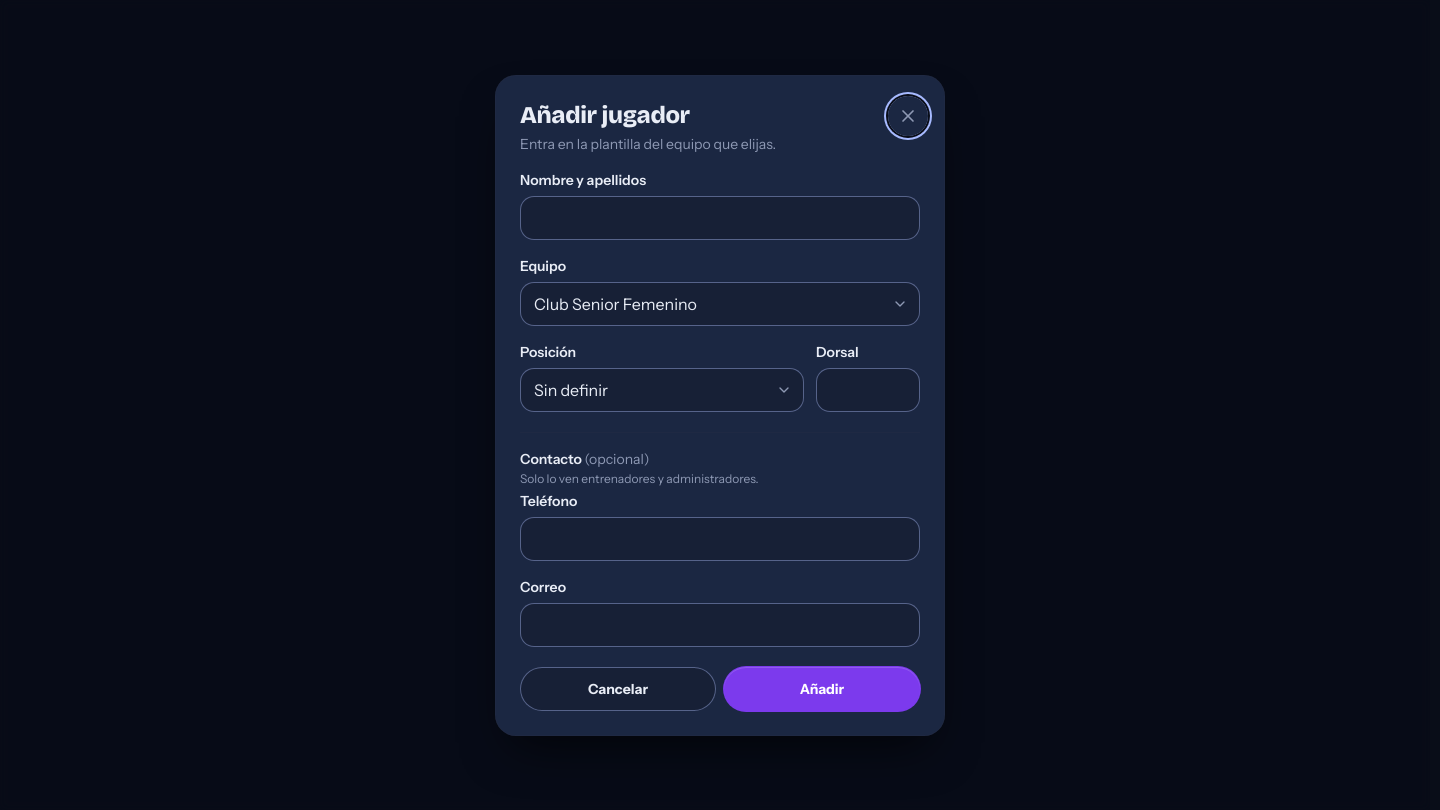
Test: PlayerDialog › el dorsal solo admite cifras
Type "1a2" into the field labelled "Dorsal".
click(868, 390); type("1a2")  # box [816,368,920,412]
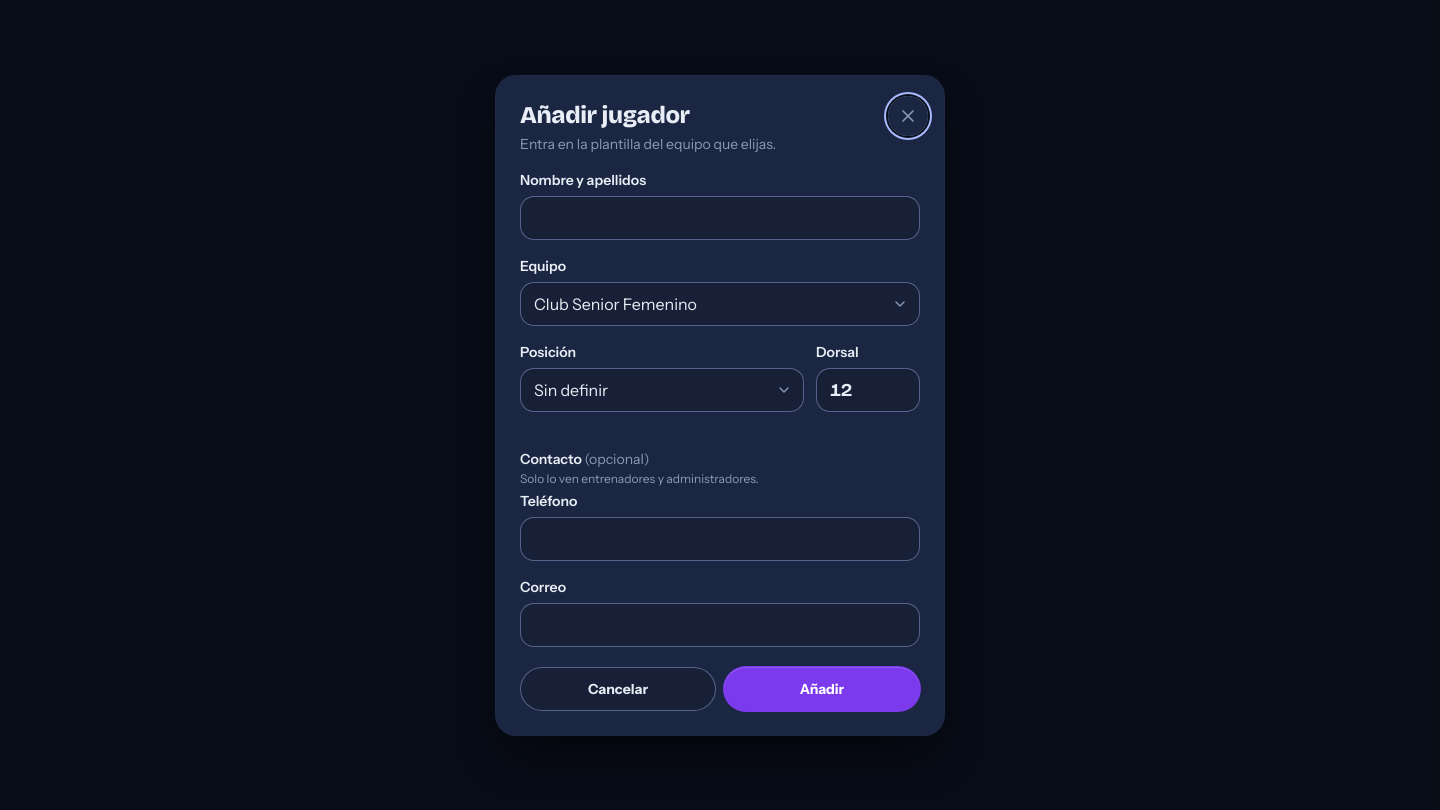
Result: the field labelled "Dorsal" holds "12" at [816,368,920,412]
